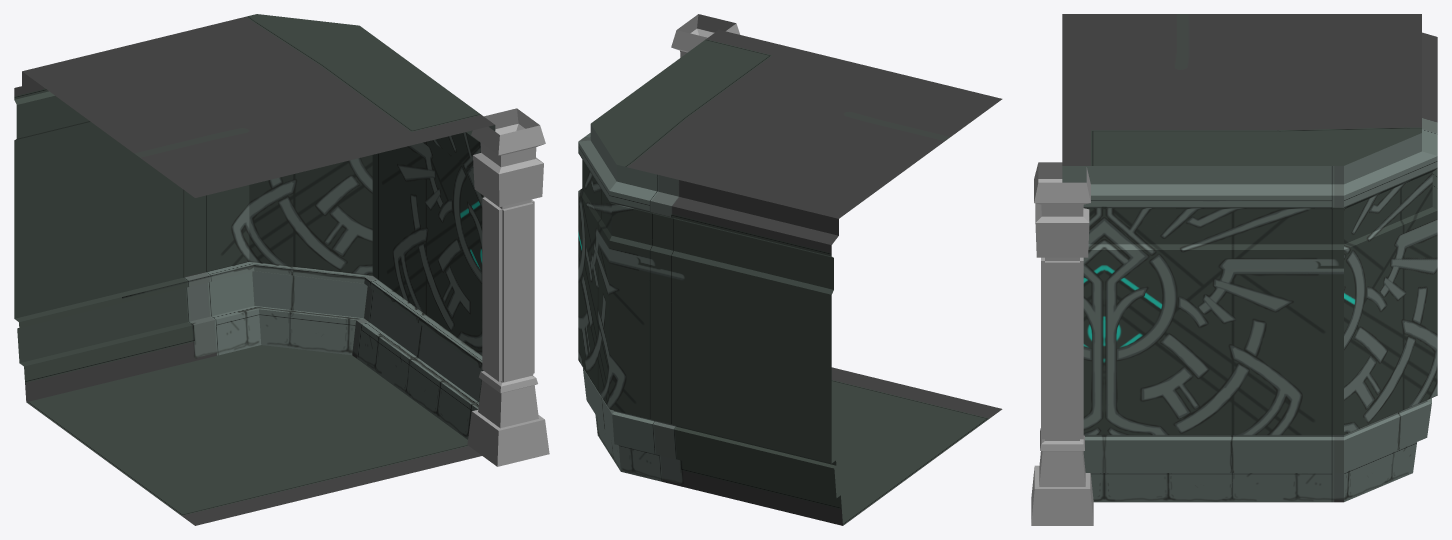
The model's file is Left_Corridor.fbx.
The picture shows the model from 3 angles, left to right: view 1: azimuth 30°, elevation 25°; view 2: azimuth 150°, elevation 25°; view 3: azimuth 270°, elevation 25°; orthographic projection. The views are drawn at different scales.
Parts seen in each view (by area): view 1: corridor, Pillar; view 2: corridor, Pillar; view 3: corridor, Pillar.
Part boxes in pixels (x1,y1,x2,y2): corridor: (14,14,495,525); Pillar: (467,108,549,466); corridor: (578,30,1002,525); Pillar: (671,14,740,57); corridor: (1062,14,1437,502); Pillar: (1031,162,1093,525).
Size of the model in its own units: 325 by 300 by 325.
2 materials, 1 textured.
